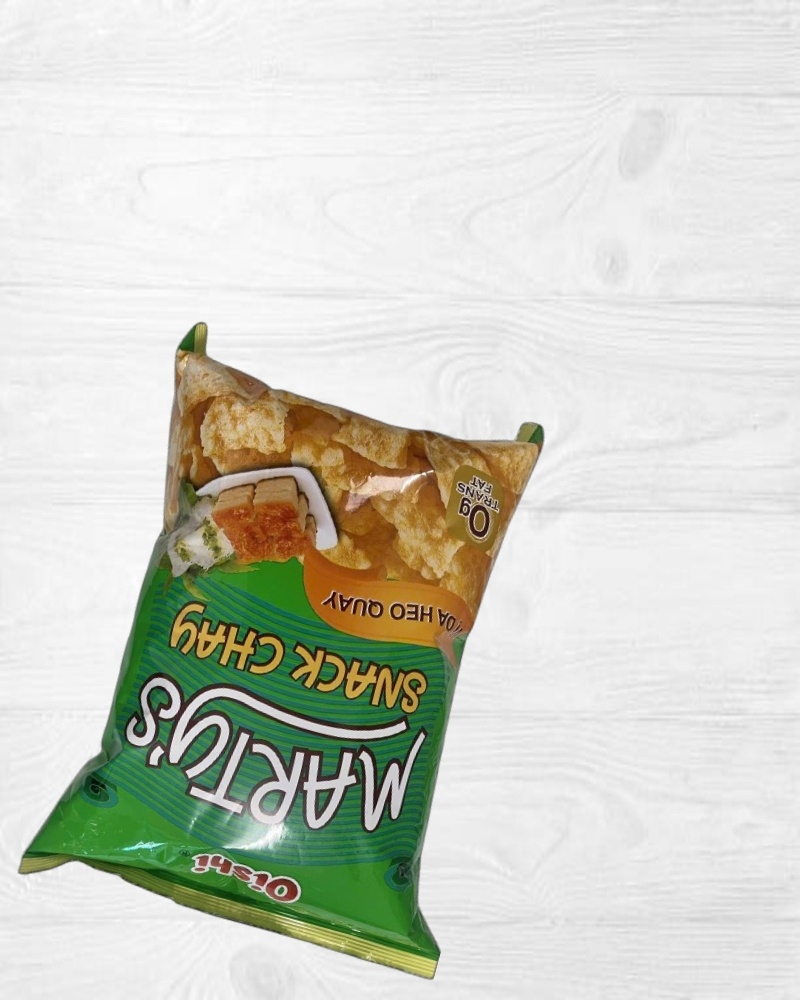Snack chay: (38, 321, 580, 984)
